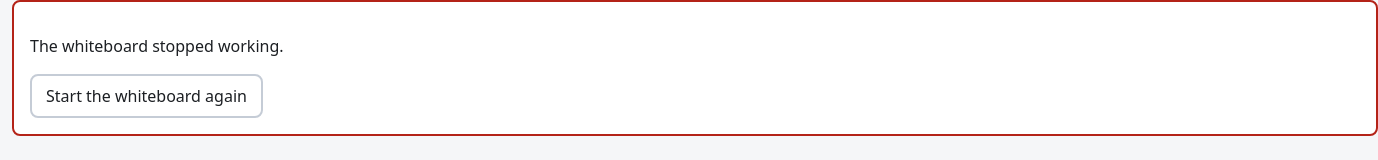
Scenario: WhiteboardErrorBoundary › builds the children again when the user presses the button
Click the button "Start the whiteboard again": click(146, 96) [30, 74, 263, 118]
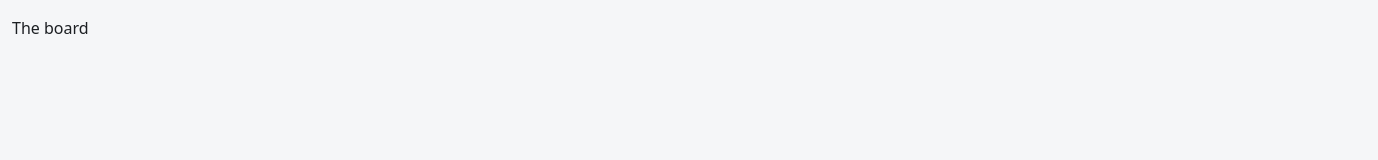
Check: the text "The board" is shown, box [12, 17, 89, 39]
Check: the message "The whiteboard stopped working. Start the whiteboard again" is gone
